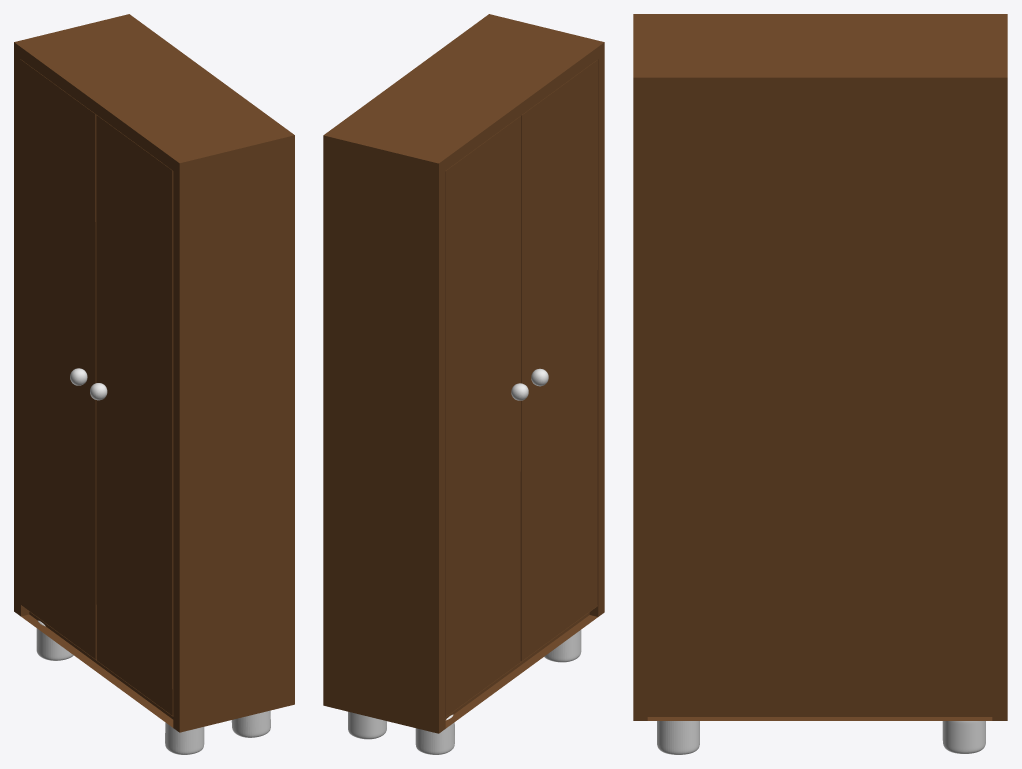
The model's file is szafa.fbx.
3 views of the same model, side by side, from view 1: azimuth 30°, elevation 25°; view 2: azimuth 150°, elevation 25°; view 3: azimuth 270°, elevation 25° (orthographic). The views are drawn at different scales.
Parts seen in each view (by area): view 1: Plane, Plane.002, Plane.001, Cube, Cube.002, Cube.001; view 2: Plane, Plane.002, Plane.001, Cube.001, Cube.003, Cube; view 3: Plane, Cube.002, Cube.003.
Boxes of the visible parts, left/top/right/bottom form: Plane: left=14, top=14, right=294, bottom=732; Plane.002: left=96, top=115, right=173, bottom=715; Plane.001: left=20, top=59, right=96, bottom=659; Cube: left=165, top=722, right=204, bottom=754; Cube.002: left=231, top=710, right=270, bottom=737; Cube.001: left=36, top=620, right=73, bottom=660; Plane: left=323, top=14, right=604, bottom=733; Plane.002: left=520, top=59, right=597, bottom=661; Plane.001: left=445, top=116, right=520, bottom=717; Cube.001: left=415, top=714, right=454, bottom=754; Cube.003: left=348, top=711, right=386, bottom=739; Cube: left=544, top=630, right=581, bottom=662; Plane: left=633, top=14, right=1007, bottom=720; Cube.002: left=657, top=721, right=699, bottom=754; Cube.003: left=942, top=721, right=985, bottom=753.
Size of the model in its own units: 55.97 by 247 by 123.
